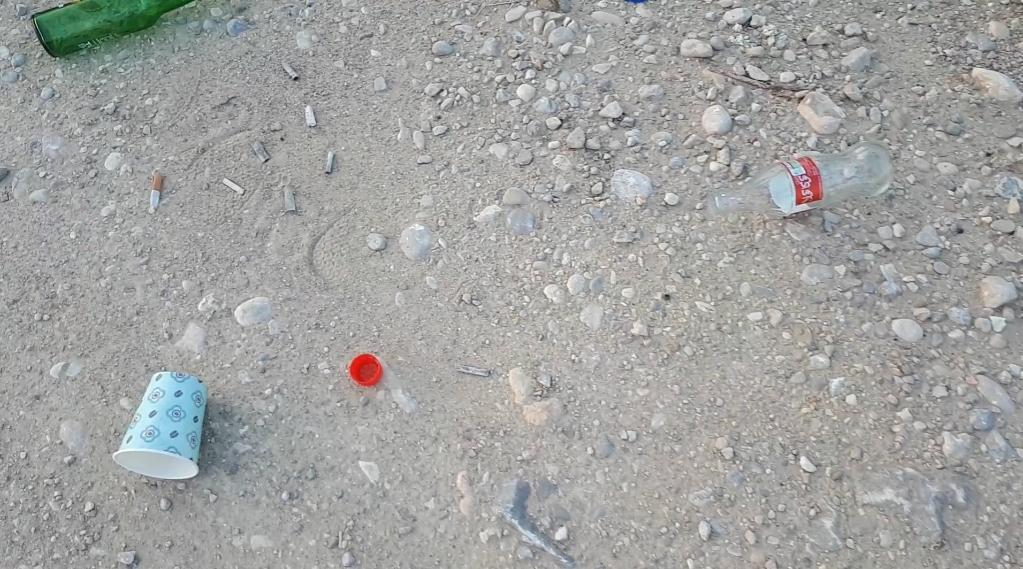garbage: (696, 140, 893, 220), (709, 141, 896, 215), (108, 368, 211, 482), (32, 0, 200, 60), (31, 1, 198, 57)
